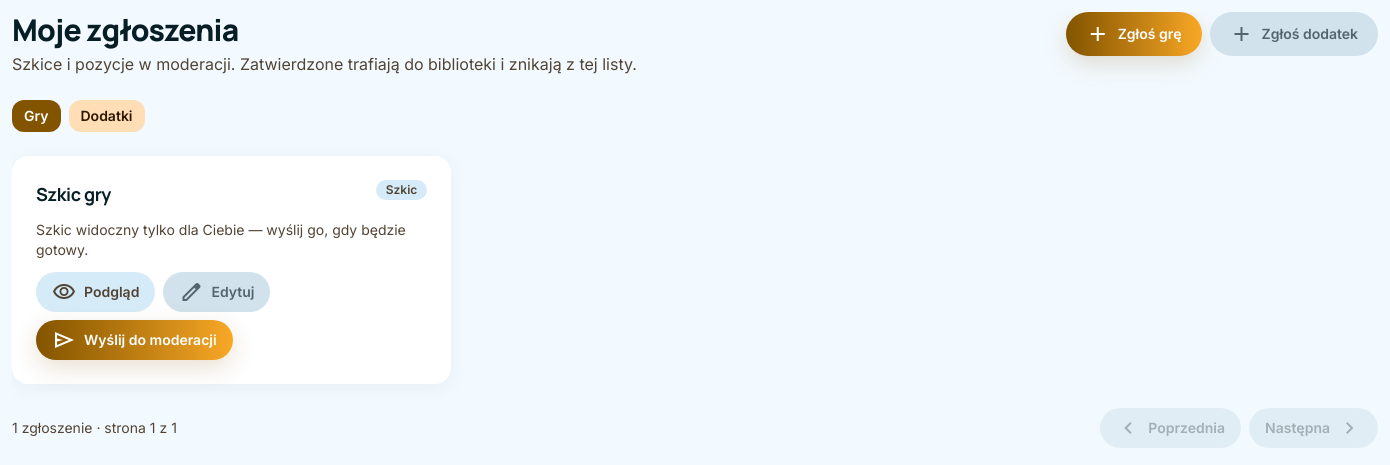
it: MySubmissionsPage › przełącznik pokazuje zgłoszenia dodatków
Click the button "Dodatki".
click(106, 116)  # box 68,100 -> 144,132
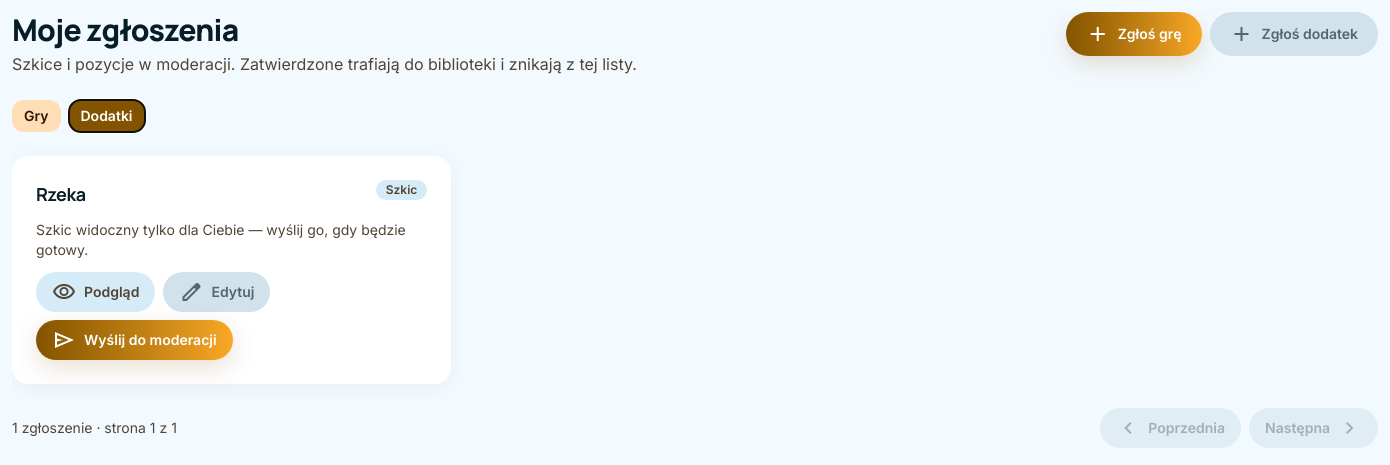
Check: the heading "Rzeka" is shown, box 36,180 -> 86,208
